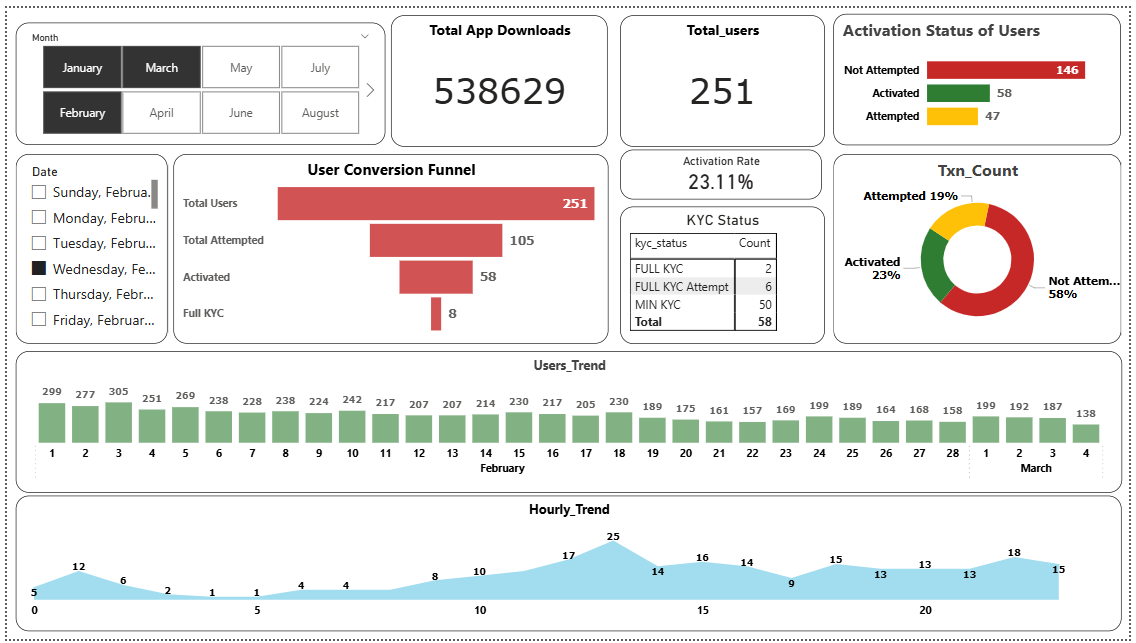

The page's visual inventory and layout, read from the dashboard file:
{"tool":"powerbi","page":{"name":"User_Report","canvas":[1280,720],"ordinal":1},"visuals":[{"type":"columnChart","title":"Users_Trend","fields":{"Category":["Users (3).Date.Variation.Date Hierarchy.Month","Users (3).Date.Variation.Date Hierarchy.Day"],"Y":["CountNonNull(Users (3).mobile)"]},"box":[10,391.7,1263.3,161.7],"z":0},{"type":"lineChart","title":"Hourly_Trend","fields":{"Category":["Users (3).Hour"],"Y":["CountNonNull(Users (3).mobile)"]},"box":[10,556.2,1262.5,155],"z":1000},{"type":"card","title":"Total_users","fields":{"Values":["CountNonNull(Users (3).mobile)"]},"box":[700,8.3,233.3,150],"z":2000},{"type":"barChart","title":"Activation Status of Users","fields":{"Category":["Users (3).Wallet Status"],"Y":["CountNonNull(Users (3).mobile)"]},"box":[943.9,7.5,328.1,149.8],"z":3000},{"type":"donutChart","title":"Txn_Count","fields":{"Category":["Users (3).Wallet Status"],"Y":["Sum(Users (3).mobile)"]},"box":[943.8,166.2,328.8,216.2],"z":4000},{"type":"card","title":"Total App Downloads","fields":{"Values":["Sum(Table4.Number)"]},"box":[438.8,7.5,247.5,150],"z":5000},{"type":"slicer","fields":{"Values":["Users (3).Date.Variation.Date Hierarchy.Month"]},"box":[10,16.7,421.7,140],"z":6000},{"type":"slicer","fields":{"Values":["Users (3).Date"]},"box":[10,166.7,173.3,216.7],"z":7000},{"type":"pivotTable","title":"KYC Status","fields":{"Rows":["Users (3).kyc_status"],"Values":["Count(Users (3).mobile)"]},"box":[700,226.7,233.3,156.7],"z":8000},{"type":"funnel","title":"User Conversion Funnel","fields":{"Y":["Users (3).Total Users","Users (3).Attempted","Users (3).Activated","Users (3).Full KYC"]},"box":[190,166.7,496.7,216.7],"z":9000},{"type":"card","title":"Activation Rate","fields":{"Values":["Users (3).Activation Rate"]},"box":[700,161.7,230,56.7],"z":10000}]}

Visuals, with their boxes in screenshot pixels (x1, y1, x2, y2), scaled from the page's 1280x720 canvas onto the 1136x643 screenshot:
"Users_Trend" columnChart: [9, 350, 1130, 494]
"Hourly_Trend" lineChart: [9, 497, 1129, 635]
"Total_users" card: [621, 7, 828, 141]
"Activation Status of Users" barChart: [838, 7, 1129, 140]
"Txn_Count" donutChart: [838, 148, 1129, 342]
"Total App Downloads" card: [389, 7, 609, 141]
slicer - Users (3).Date.Variation.Date Hierarchy.Month: [9, 15, 383, 140]
slicer - Users (3).Date: [9, 149, 163, 342]
"KYC Status" pivotTable: [621, 202, 828, 342]
"User Conversion Funnel" funnel: [169, 149, 609, 342]
"Activation Rate" card: [621, 144, 825, 195]
